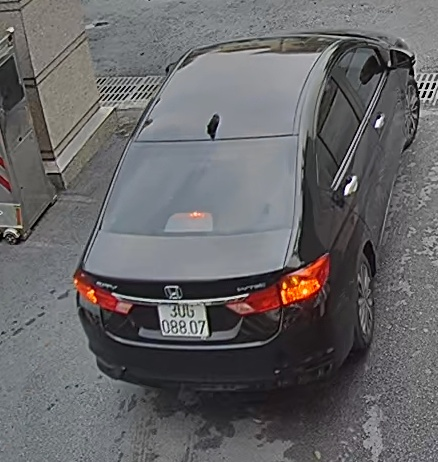vehicle plate: (152, 292, 210, 340)
